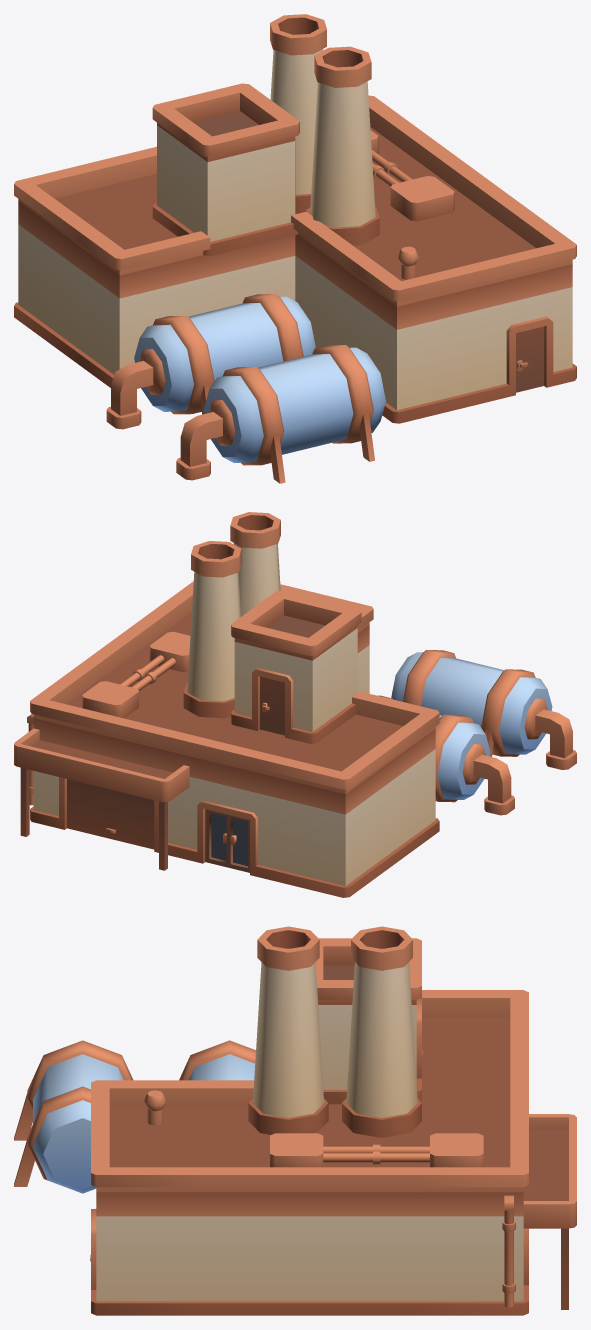
The model's file is building-c.glb.
3 views of the same model, one above another, from view 1: azimuth 30°, elevation 25°; view 2: azimuth 150°, elevation 25°; view 3: azimuth 270°, elevation 25° (orthographic). The views are drawn at different scales.
Parts seen in each view (by area): view 1: building-c; view 2: building-c; view 3: building-c.
Part boxes in pixels (x1,y1,x2,y2): building-c: (14,14,576,483); building-c: (14,512,576,897); building-c: (14,926,576,1315).
Size of the model in its own units: 1.88 by 1.25 by 2.11.
Materials: 2 (2 with a texture image).
